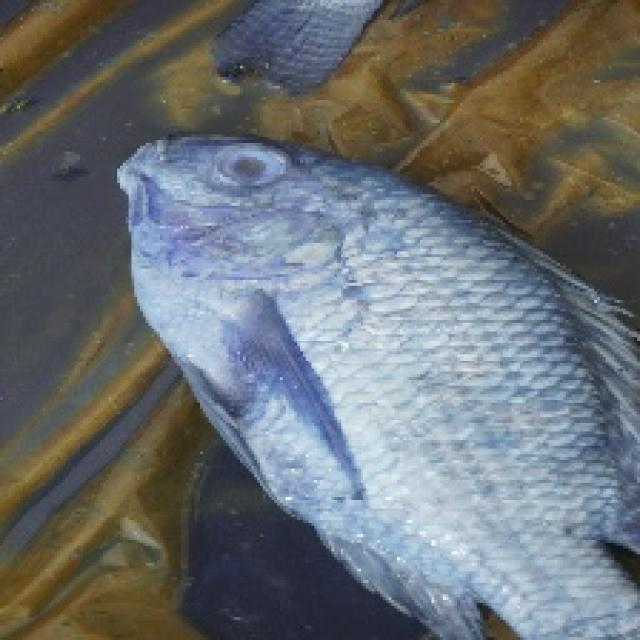Non-Fresh: (130, 129, 622, 593)
